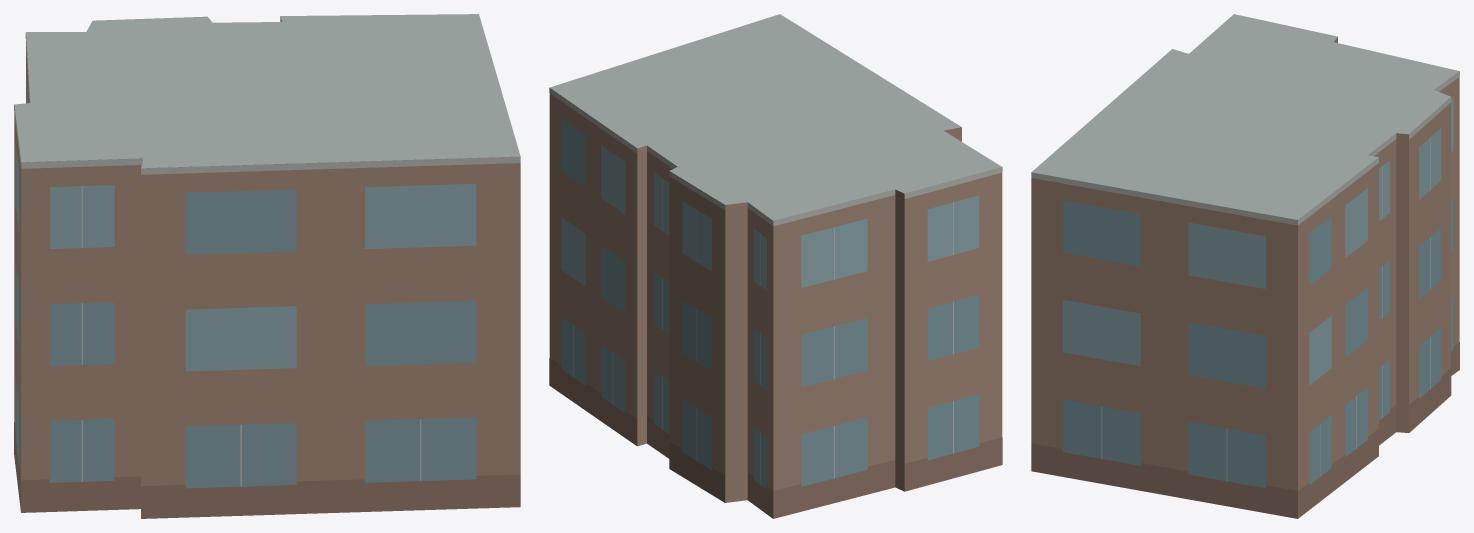
File: survey-upis-32581718.glb
The picture shows the model from 3 angles, left to right: view 1: azimuth 30°, elevation 25°; view 2: azimuth 150°, elevation 25°; view 3: azimuth 270°, elevation 25°; orthographic projection. The views are drawn at different scales.
Parts seen in each view (by area): view 1: survey-upis-32581718.tmp; view 2: survey-upis-32581718.tmp; view 3: survey-upis-32581718.tmp.
Part boxes in pixels (bbox=[...]): survey-upis-32581718.tmp: bbox=[14, 14, 520, 518]; survey-upis-32581718.tmp: bbox=[549, 14, 1002, 518]; survey-upis-32581718.tmp: bbox=[1031, 14, 1459, 518].
Size of the model in its own units: 19.38 by 13.1 by 17.03.
